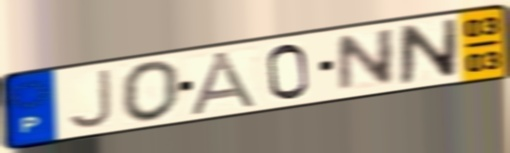0: (265, 41, 311, 102)
A: (185, 49, 264, 118)
J: (64, 67, 115, 132)
N: (397, 16, 461, 87), (335, 26, 398, 95)
O: (118, 58, 183, 124)
